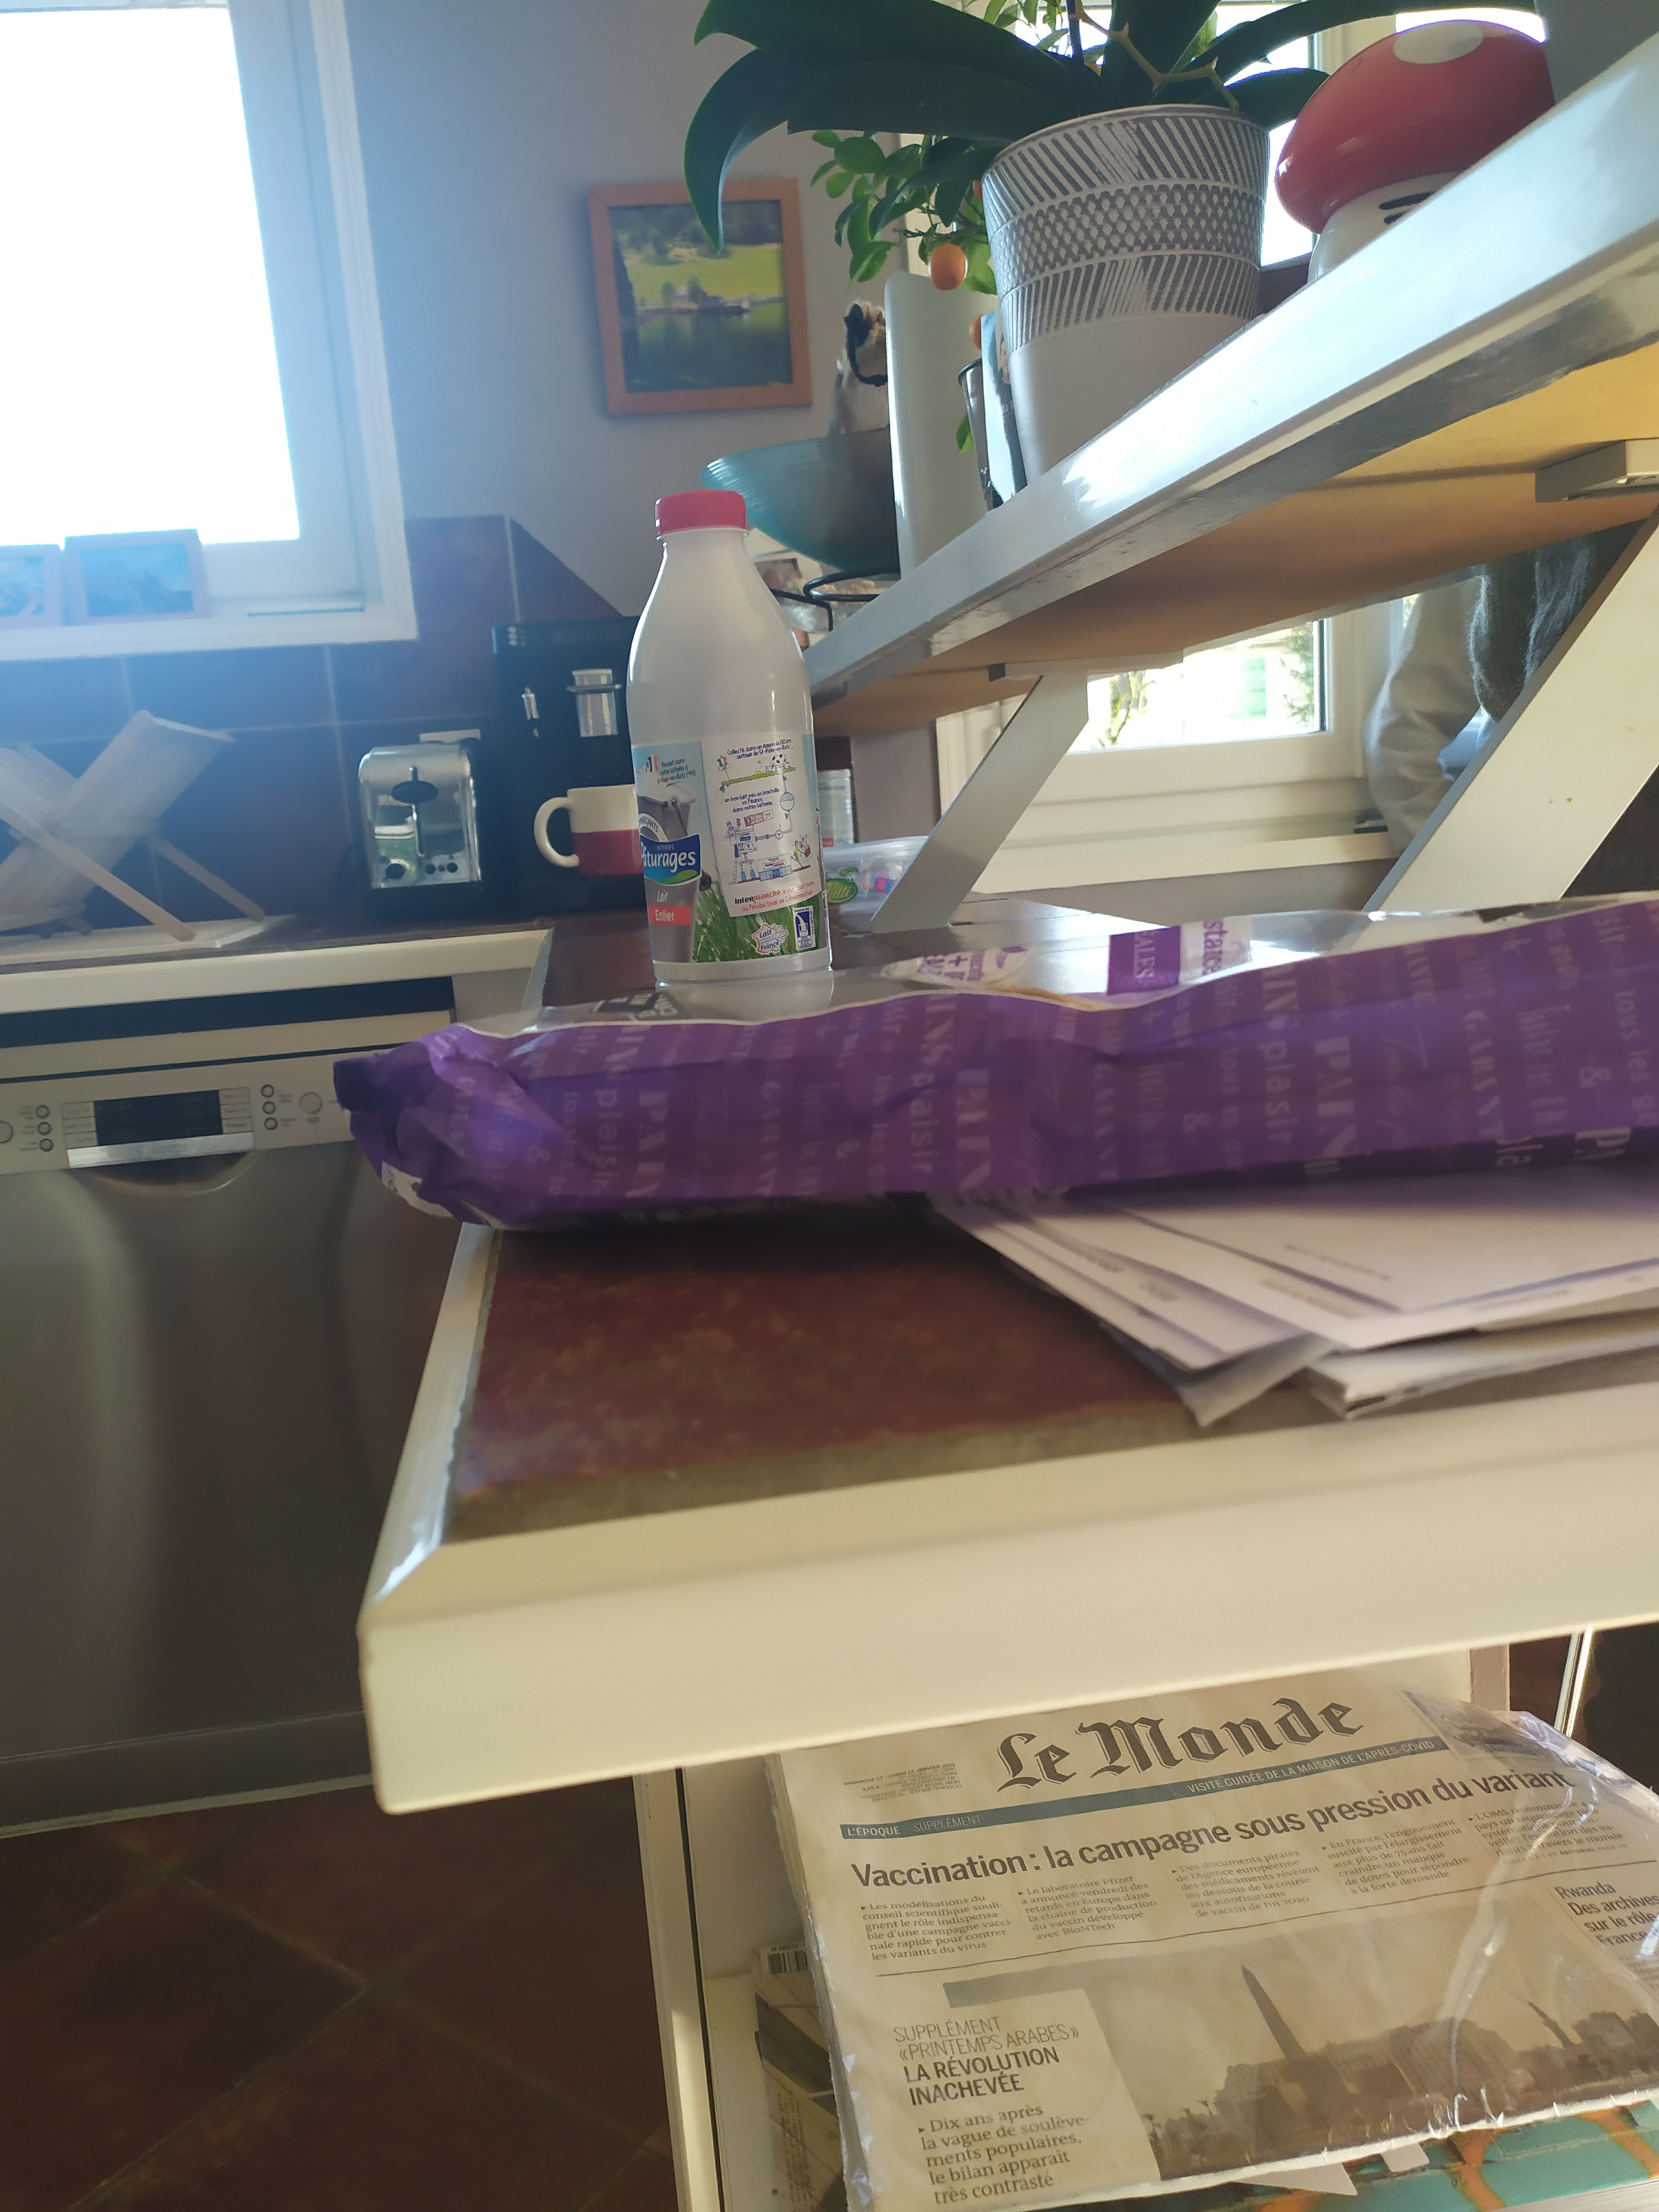bottle: (619, 484, 856, 1022)
